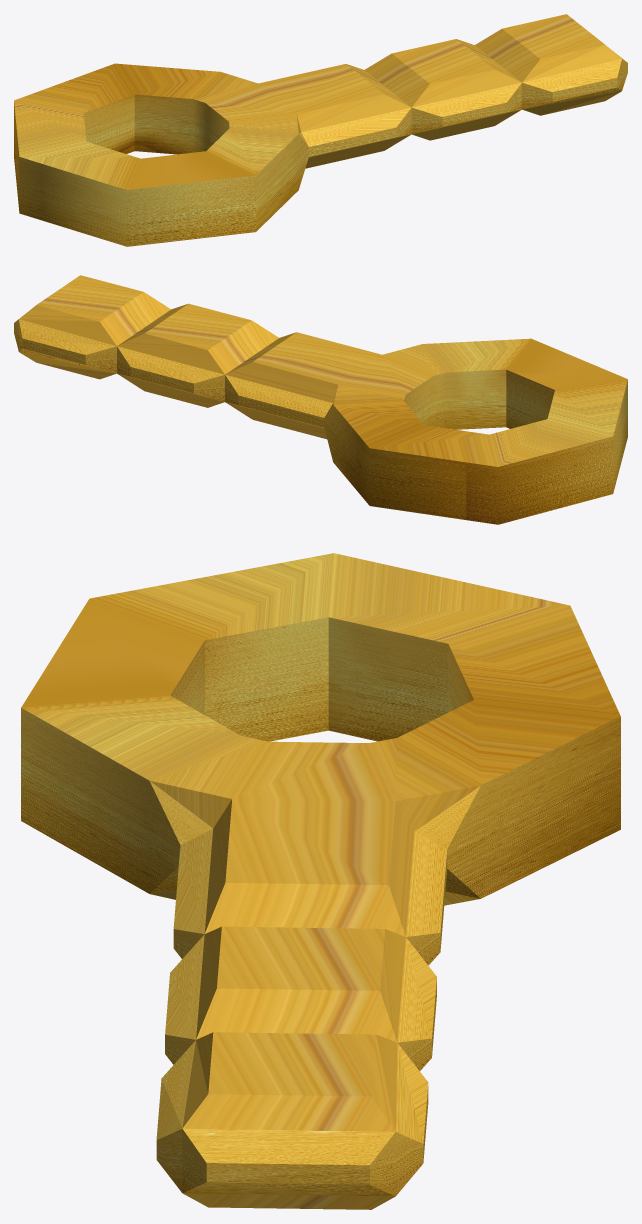
Rendered from Key_Shullder.fbx.
3 views of the same model, one above another, from view 1: azimuth 30°, elevation 25°; view 2: azimuth 150°, elevation 25°; view 3: azimuth 270°, elevation 25° (orthographic). The views are drawn at different scales.
Visible parts, largest first — view 1: Cylinder001; view 2: Cylinder001; view 3: Cylinder001.
Boxes of the visible parts, x1,y1,x2,y2 form: Cylinder001: [14, 14, 627, 246]; Cylinder001: [14, 275, 627, 524]; Cylinder001: [21, 553, 620, 1209].
Bounding box in the file's own units: 107 × 10 × 47.95.
Materials: 1 (1 with a texture image).
